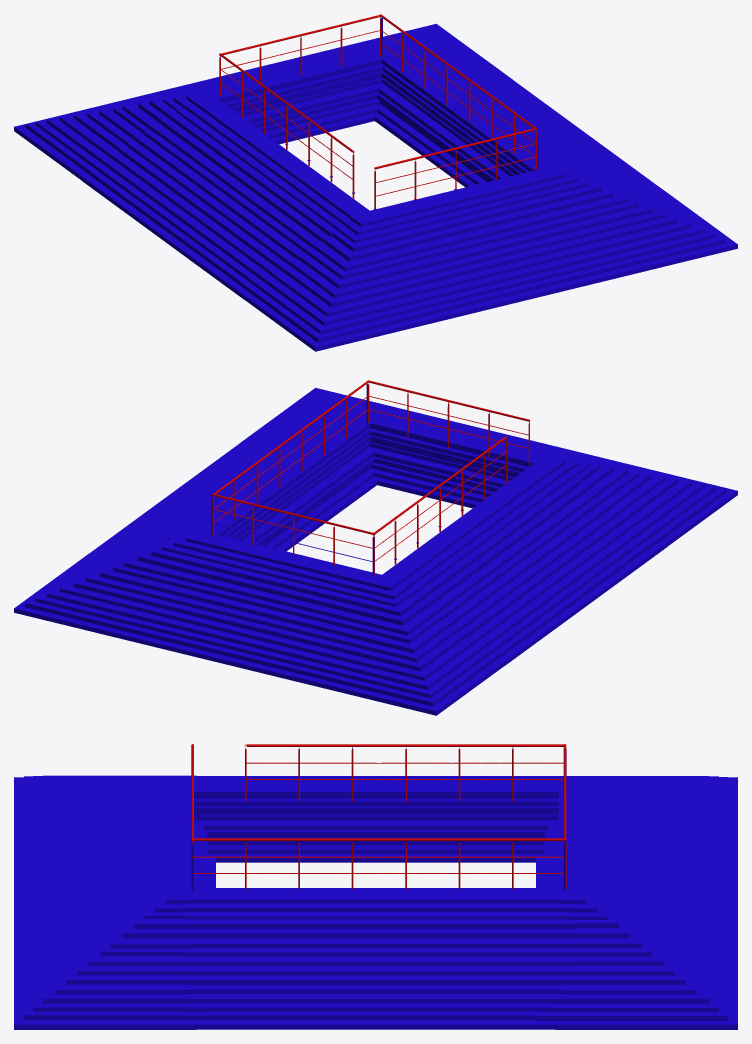
File: Platform_generator.fbx
3 renders of one model, top to bottom at view 1: azimuth 30°, elevation 25°; view 2: azimuth 150°, elevation 25°; view 3: azimuth 270°, elevation 25°, orthographic. The views are drawn at different scales.
Visible parts, largest first — view 1: staircase; view 2: staircase; view 3: staircase.
Boxes of the visible parts, x1,y1,x2,y2 form: staircase: [14, 14, 737, 351]; staircase: [14, 380, 737, 715]; staircase: [14, 744, 737, 1029].
Size of the model in its own units: 2173 by 477 by 2684.
